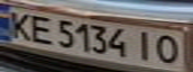1: (72, 20, 93, 53)
3: (87, 24, 109, 55)
4: (106, 25, 130, 58)
5: (51, 18, 75, 50)
E: (24, 14, 57, 45)
I: (130, 29, 160, 62)
K: (3, 9, 36, 42)
O: (151, 33, 184, 65)
